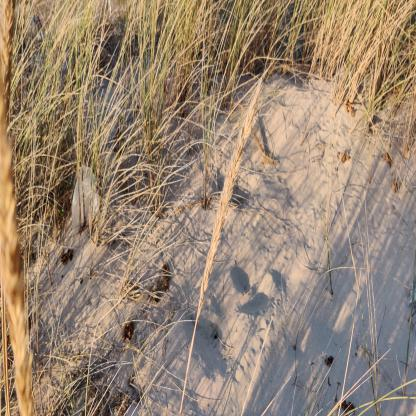plastik: (73, 167, 101, 236)
